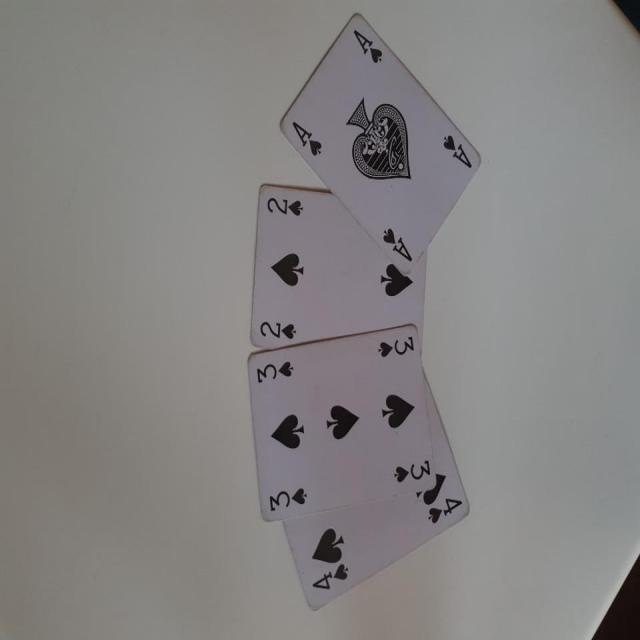2 Spades: (250, 191, 424, 343)
3 Spades: (243, 331, 432, 513)
4 Spades: (284, 476, 478, 620)
A Spades: (282, 18, 488, 268)
